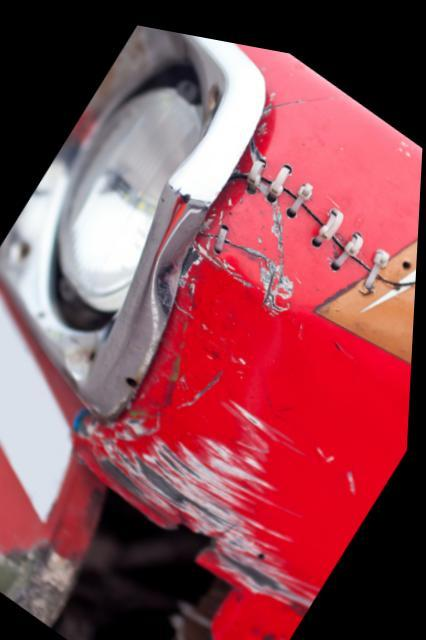dislocated part: (42, 482, 239, 640)
scratch: (84, 160, 330, 606)
